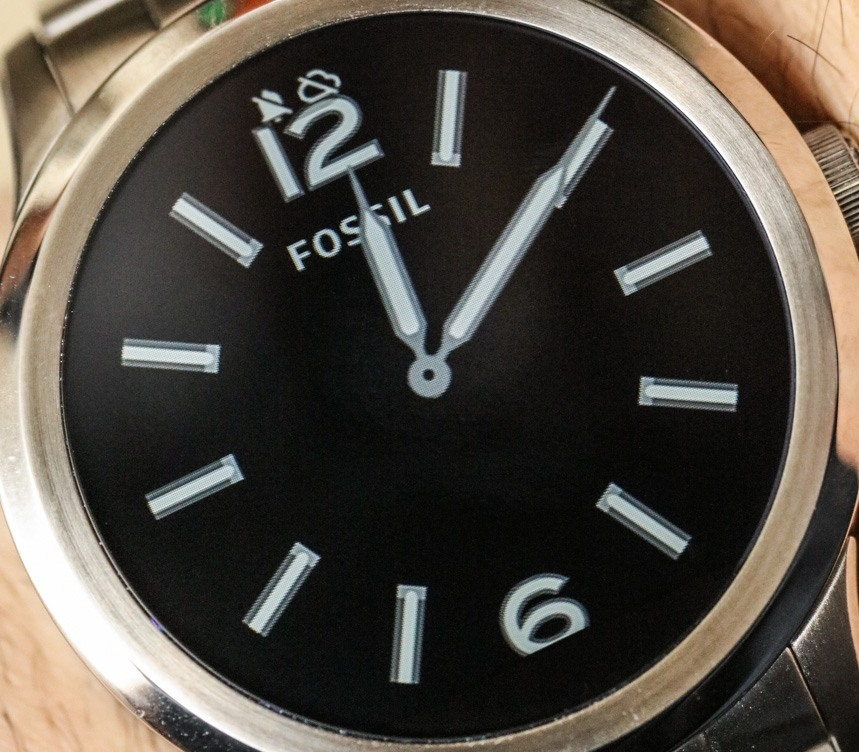clock: (4, 1, 859, 748)
